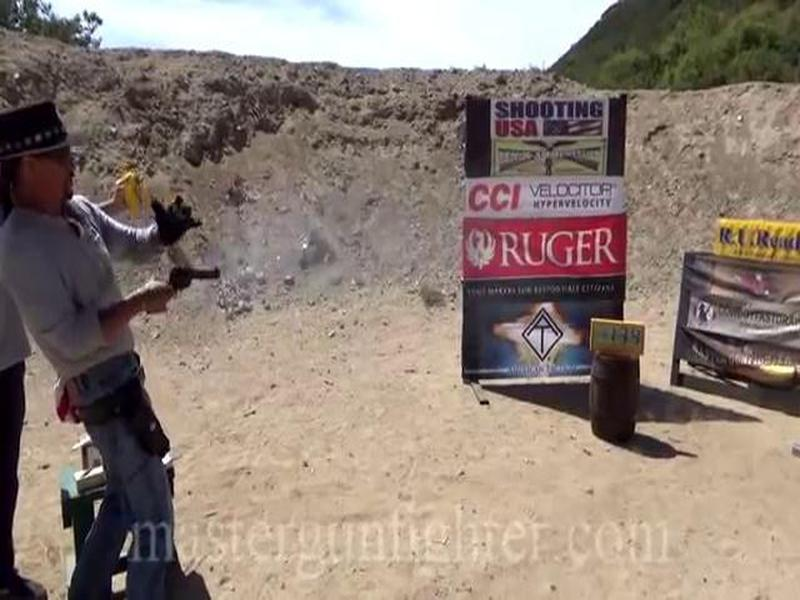Revolver: (147, 254, 227, 319)
